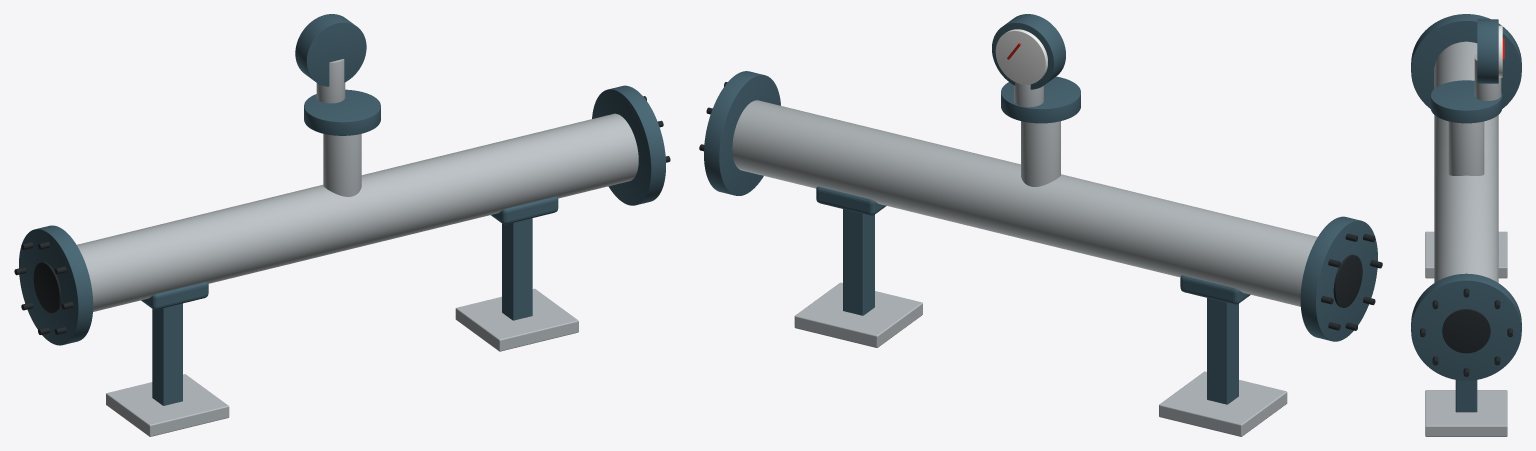
File: flanged_pipe_spool.glb
3 renders of one model, left to right at view 1: azimuth 30°, elevation 25°; view 2: azimuth 150°, elevation 25°; view 3: azimuth 270°, elevation 25°, orthographic. The views are drawn at different scales.
Visible parts, largest first — view 1: PIPE_body, FLANGE_-1.72, FLANGE_1.72, SUPPORT_foot_1.05, SUPPORT_foot_-1.05, GAUGE_body, SUPPORT_post_1.05, SUPPORT_post_-1.05, BRANCH_flange, BRANCH_neck, PIPE_open_bore_-1.72, SUPPORT_saddle_1.05 (+2 smaller); view 2: PIPE_body, FLANGE_-1.72, FLANGE_1.72, SUPPORT_foot_1.05, SUPPORT_foot_-1.05, SUPPORT_post_1.05, SUPPORT_post_-1.05, BRANCH_neck, BRANCH_flange, GAUGE_face, GAUGE_body, PIPE_open_bore_-1.72 (+2 smaller); view 3: PIPE_body, FLANGE_1.72, FLANGE_-1.72, SUPPORT_foot_1.05, BRANCH_flange, BRANCH_neck, PIPE_open_bore_1.72, GAUGE_body, SUPPORT_foot_-1.05, SUPPORT_post_1.05, GAUGE_stem, GAUGE_face.
Part boxes in pixels (x1,y1,x2,y2): PIPE_body: (77, 113, 638, 311); FLANGE_-1.72: (19, 225, 93, 345); FLANGE_1.72: (592, 85, 665, 205); SUPPORT_foot_1.05: (455, 288, 578, 351); SUPPORT_foot_-1.05: (106, 374, 229, 436); GAUGE_body: (295, 14, 366, 86); SUPPORT_post_1.05: (502, 218, 532, 320); SUPPORT_post_-1.05: (152, 303, 182, 405); BRANCH_flange: (304, 89, 380, 135); BRANCH_neck: (323, 134, 361, 196); PIPE_open_bore_-1.72: (33, 262, 61, 312); SUPPORT_saddle_1.05: (491, 196, 558, 224); PIPE_body: (732, 100, 1317, 306); FLANGE_-1.72: (1300, 216, 1377, 341); FLANGE_1.72: (704, 71, 780, 195); SUPPORT_foot_1.05: (794, 282, 922, 347); SUPPORT_foot_-1.05: (1159, 371, 1287, 436); SUPPORT_post_1.05: (843, 209, 874, 315); SUPPORT_post_-1.05: (1207, 298, 1238, 404); BRANCH_neck: (1021, 121, 1060, 186); BRANCH_flange: (1001, 76, 1080, 123); GAUGE_face: (995, 29, 1047, 84); GAUGE_body: (992, 14, 1065, 89); PIPE_open_bore_-1.72: (1333, 254, 1362, 307); PIPE_body: (1434, 41, 1498, 282); FLANGE_1.72: (1411, 273, 1521, 380); FLANGE_-1.72: (1411, 14, 1521, 108); SUPPORT_foot_1.05: (1425, 390, 1507, 436); BRANCH_flange: (1430, 80, 1502, 123); BRANCH_neck: (1448, 121, 1484, 175); PIPE_open_bore_1.72: (1442, 309, 1490, 353); GAUGE_body: (1477, 19, 1498, 83); SUPPORT_foot_-1.05: (1425, 231, 1507, 278); SUPPORT_post_1.05: (1455, 380, 1477, 412); GAUGE_stem: (1474, 54, 1501, 100); GAUGE_face: (1498, 25, 1502, 77).
Bounding box in the file's own units: 3.64 × 1.96 × 0.62.
